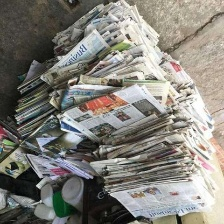news_paper: (40, 0, 175, 147), (9, 50, 109, 185), (100, 112, 217, 223), (157, 50, 216, 158)
